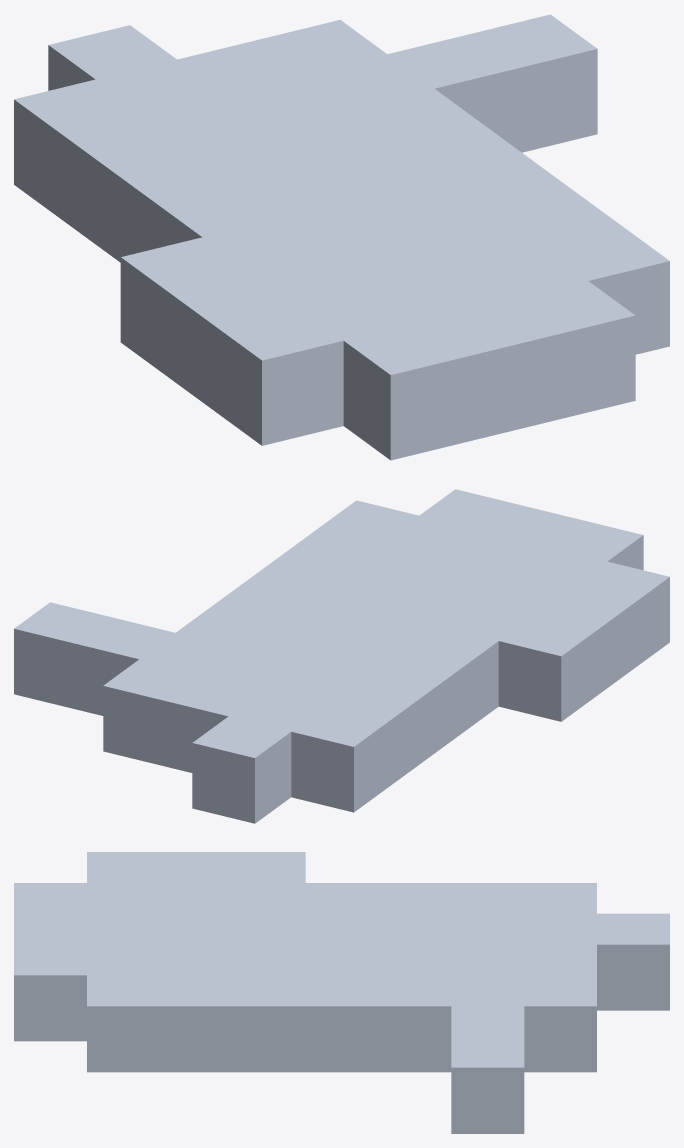
File: nuvem7.fbx
3 views of the same model, one above another, from view 1: azimuth 30°, elevation 25°; view 2: azimuth 150°, elevation 25°; view 3: azimuth 270°, elevation 25° (orthographic). The views are drawn at different scales.
Parts seen in each view (by area): view 1: Cube.007; view 2: Cube.007; view 3: Cube.007.
Part boxes in pixels (x1=…): Cube.007: x1=14, y1=14, x2=669, y2=460; Cube.007: x1=14, y1=489, x2=669, y2=823; Cube.007: x1=14, y1=852, x2=669, y2=1133.
Bounding box in the file's own units: 700 × 100 × 900.
